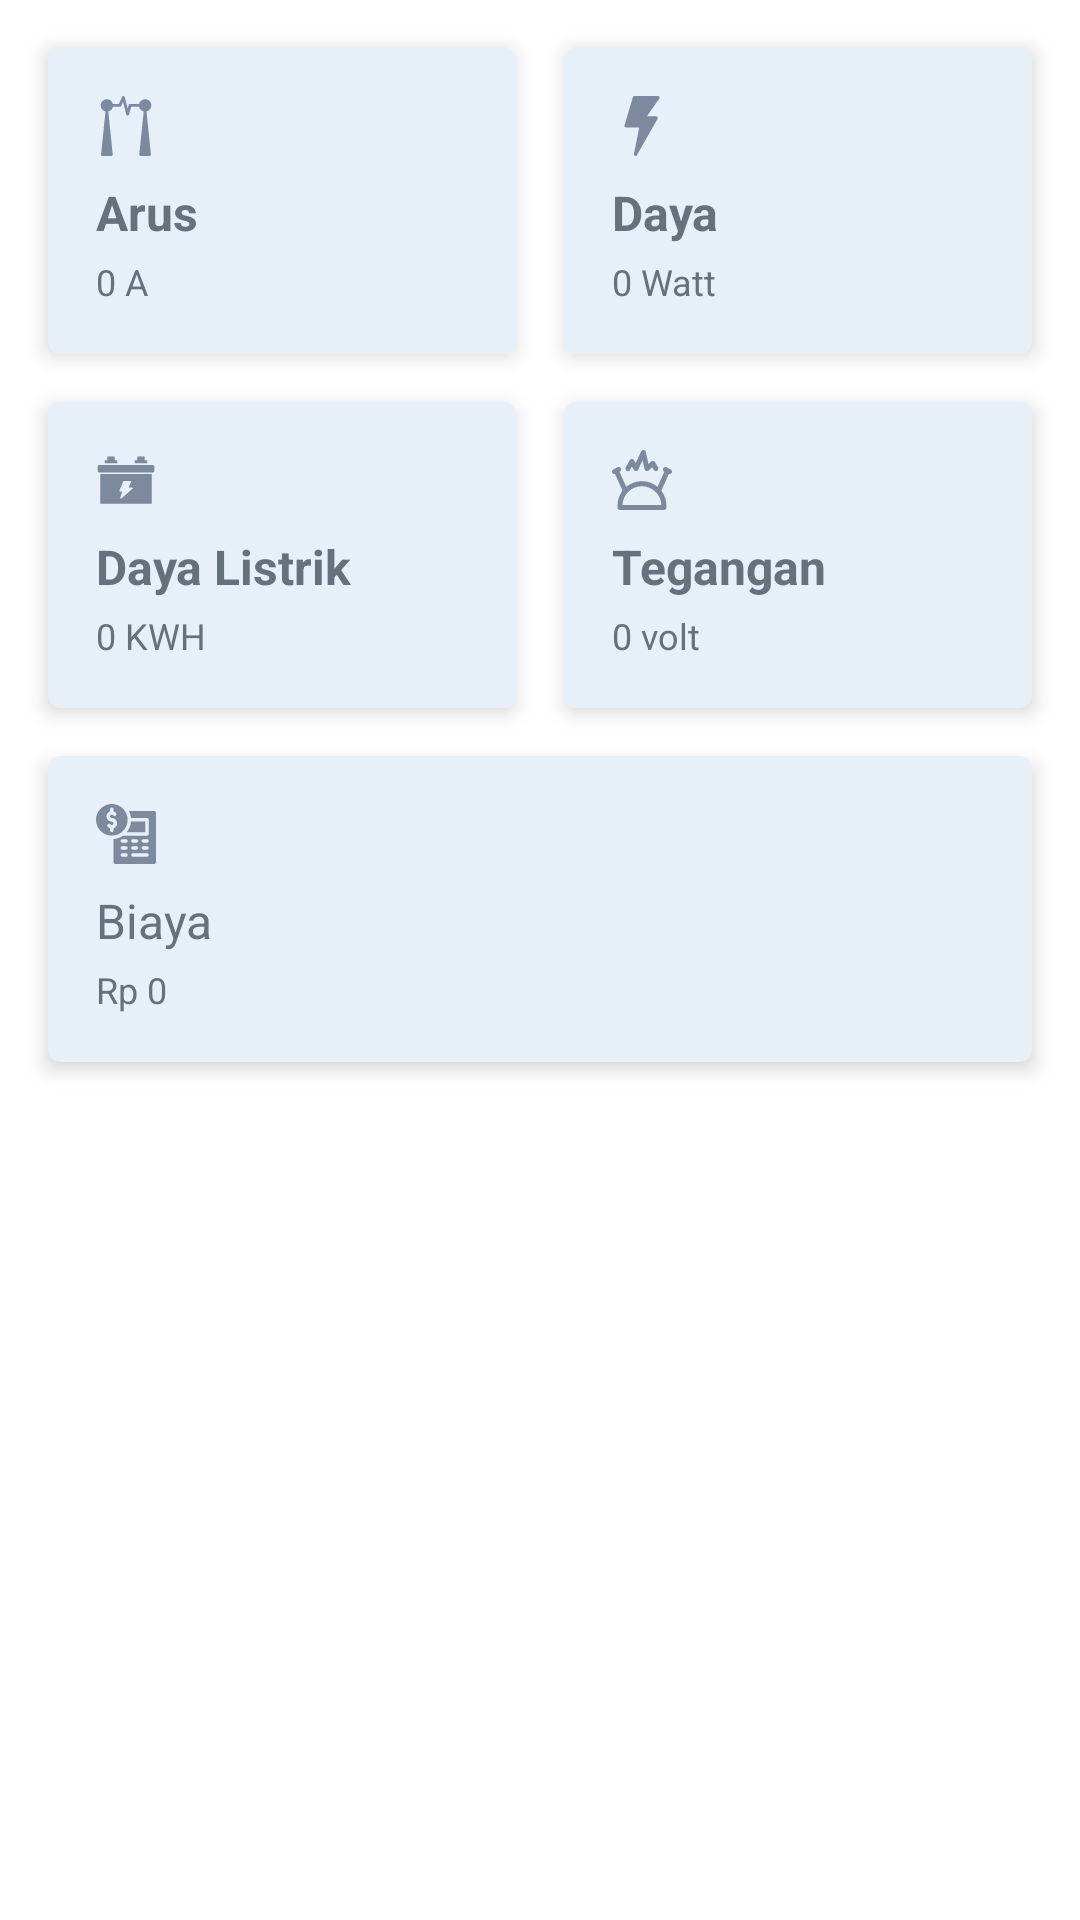

Named icons in this screenshot (1080px×1920px) and their centers, (x=x, y=y):
budget: (x=126, y=834)
car battery: (x=126, y=480)
electric current: (x=126, y=126)
power: (x=642, y=126)
